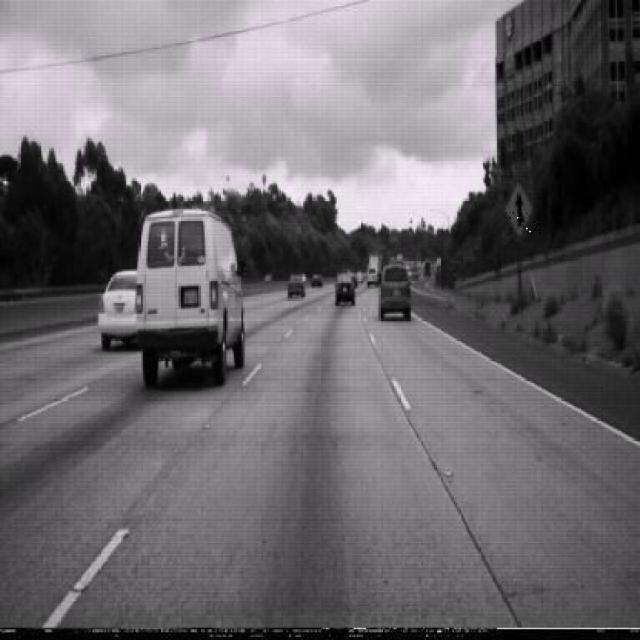merge: (504, 180, 534, 238)
